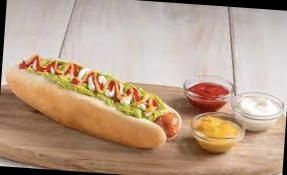Completos: (1, 51, 182, 156)
